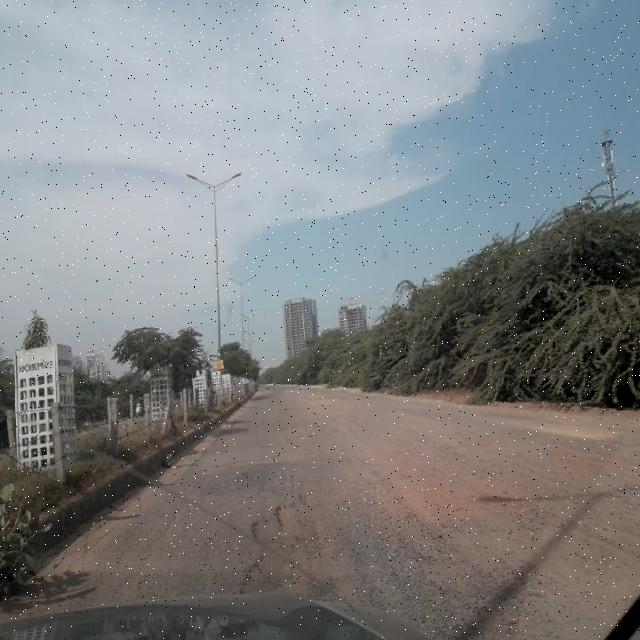D40: (226, 429, 640, 591)
